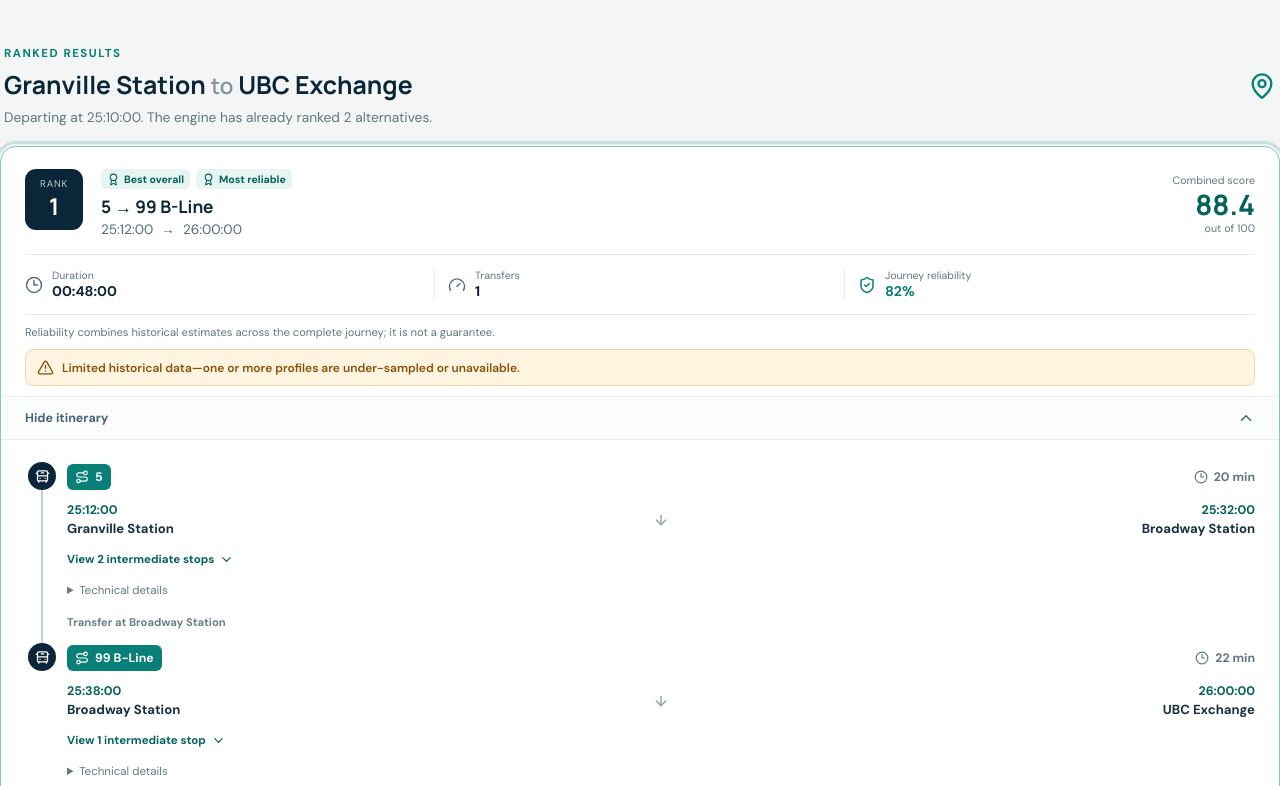
Test case: RouteResults › renders a multi-leg itinerary and GTFS times beyond 24:00
This screenshot has width=1280, height=786.
Step 1. Click the heading "Technical details" below "25:32:00" → (123, 590), box [79,583,168,598]
(page scrolled)
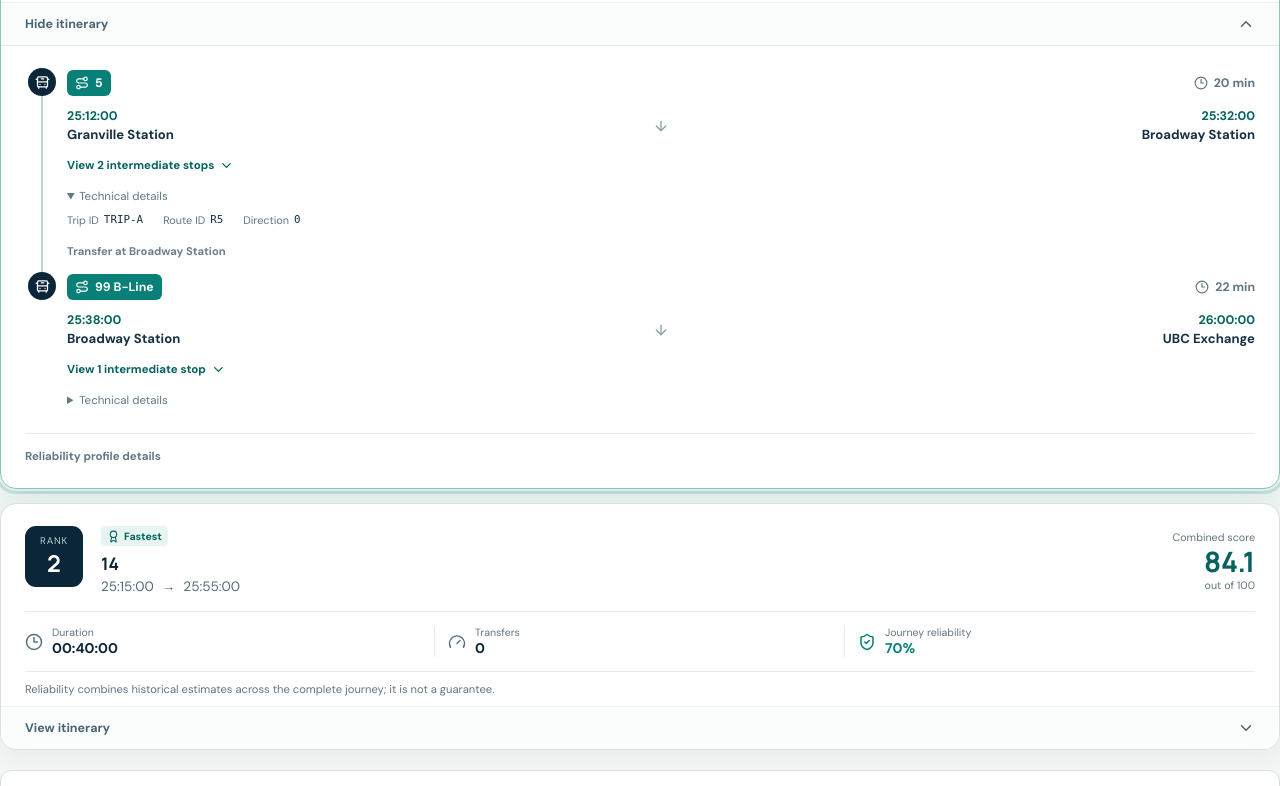
Step 2. Click the heading "Technical details" below "25:38:00" → (123, 400), box [79,393,168,408]
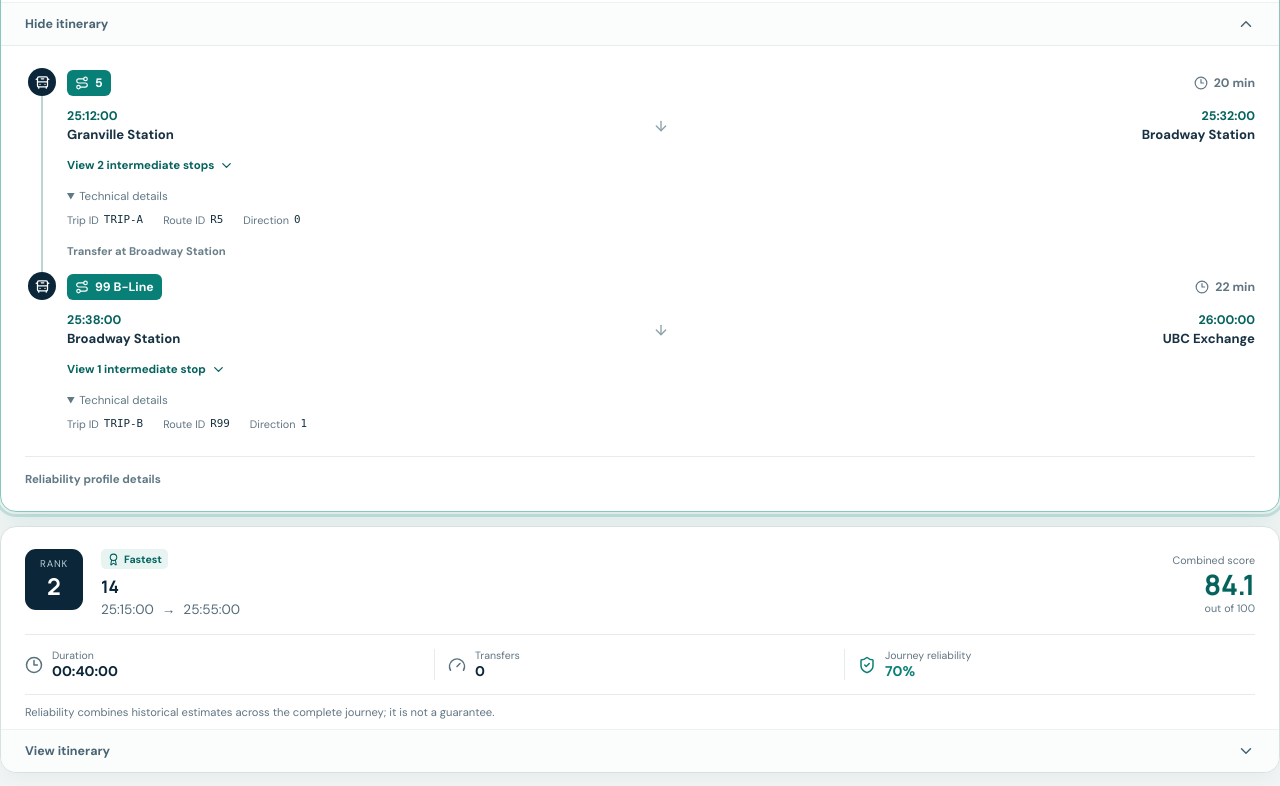
Check: the text "Transfer at Broadway Station" is shown, box [67,244,226,258]
Check: the text "TRIP-A" is shown, box [104,213,143,227]
Check: the text "TRIP-B" is shown, box [104,417,143,431]
